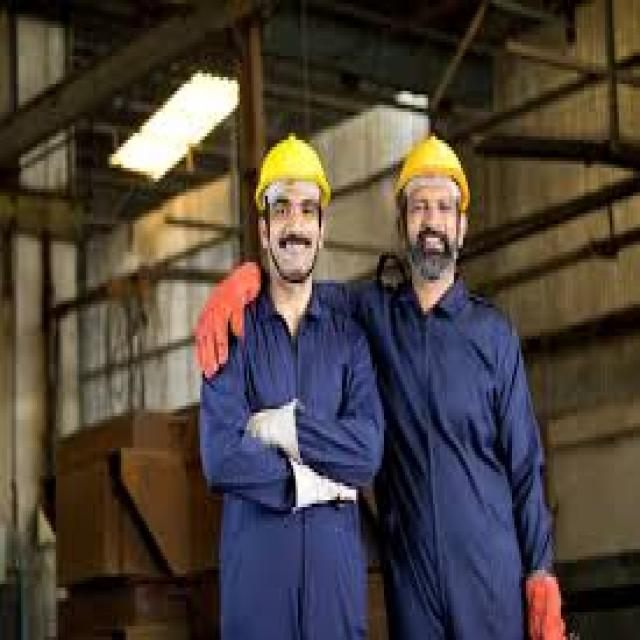Safety-Helmet: (246, 126, 340, 220), (386, 126, 477, 213)
